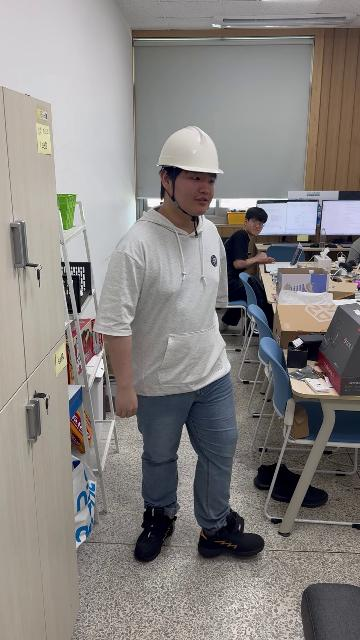helmet_worn: (155, 124, 226, 174)
shoe_not_worn: (255, 461, 326, 505), (256, 462, 290, 486)
shoe_worn: (198, 511, 264, 559), (133, 506, 178, 562)
vest_not_worn: (121, 213, 231, 394)
